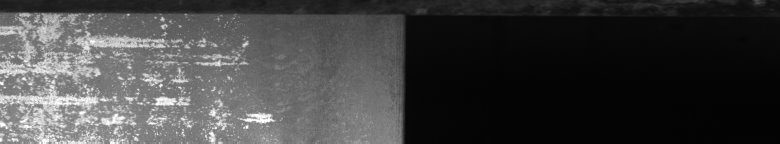kb: (4, 4, 334, 136)
